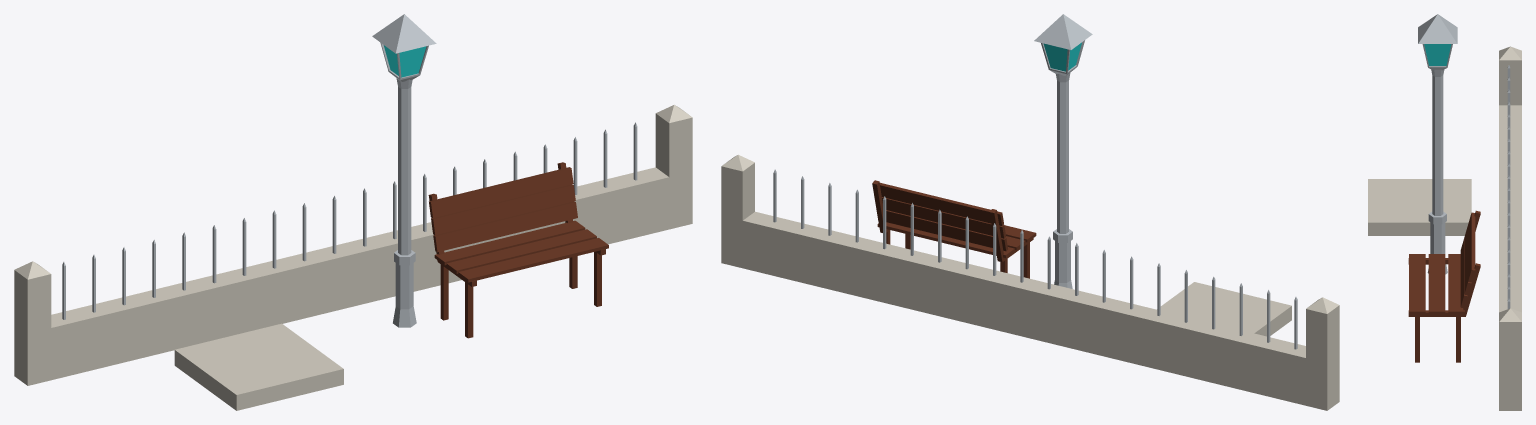
The model's file is ModParkAssets01.fbx.
3 views of the same model, side by side, from view 1: azimuth 30°, elevation 25°; view 2: azimuth 150°, elevation 25°; view 3: azimuth 270°, elevation 25° (orthographic). The views are drawn at different scales.
Parts seen in each view (by area): view 1: fence, bench, block, streetlight; view 2: fence, bench, streetlight, block; view 3: fence, block, bench, streetlight.
Boxes of the visible parts, left/top/right/bottom form: fence: left=14, top=105, right=692, bottom=385; bench: left=428, top=162, right=608, bottom=338; block: left=174, top=323, right=343, bottom=410; streetlight: left=372, top=14, right=436, bottom=327; fence: left=721, top=154, right=1339, bottom=410; bench: left=872, top=180, right=1036, bottom=278; streetlight: left=1034, top=14, right=1092, bottom=288; block: left=1157, top=282, right=1291, bottom=336; fence: left=1499, top=46, right=1521, bottom=410; block: left=1368, top=179, right=1471, bottom=235; bench: left=1408, top=210, right=1480, bottom=362; streetlight: left=1418, top=14, right=1457, bottom=274.
Size of the model in its own units: 17.66 by 8.29 by 4.23.
